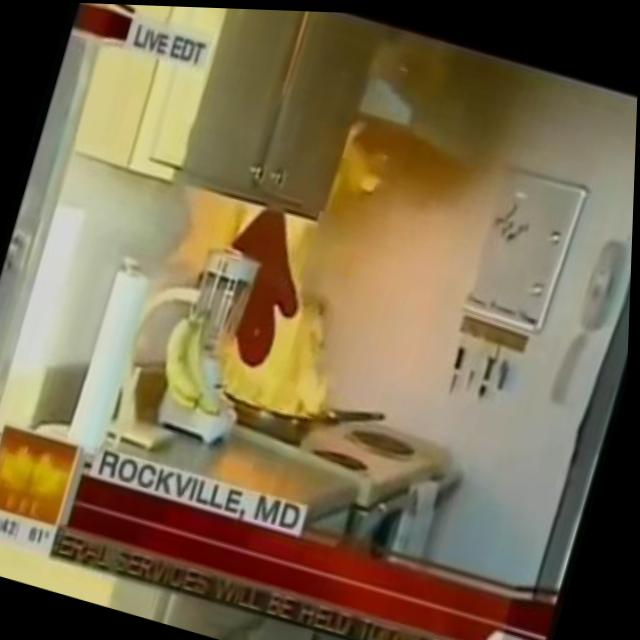fire: (199, 90, 431, 427)
